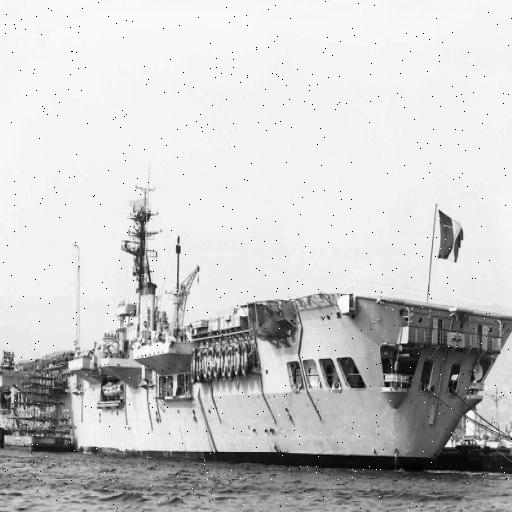Portanaves: (1, 138, 512, 475)
